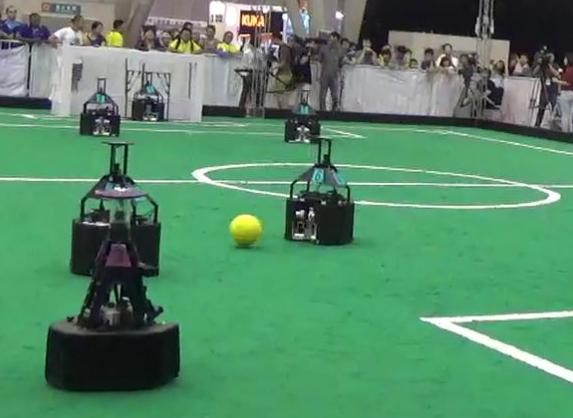robot: (40, 183, 187, 391), (284, 134, 358, 249)
